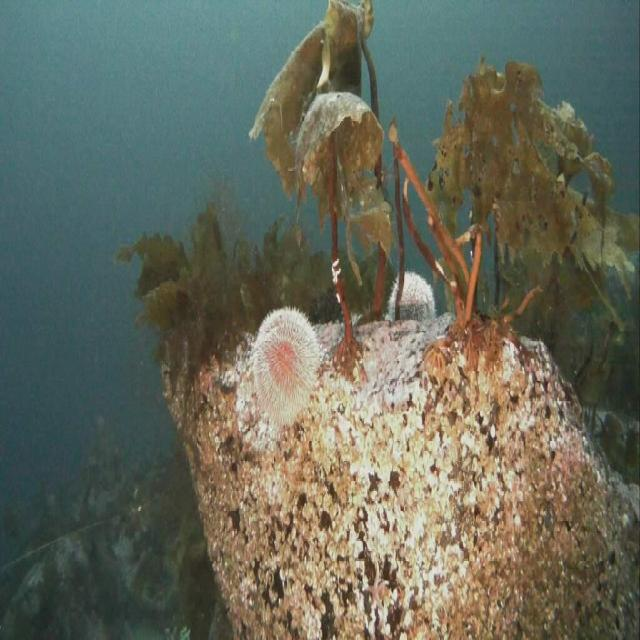Deniz Kestanesi: (251, 307, 320, 426), (386, 268, 439, 322)
